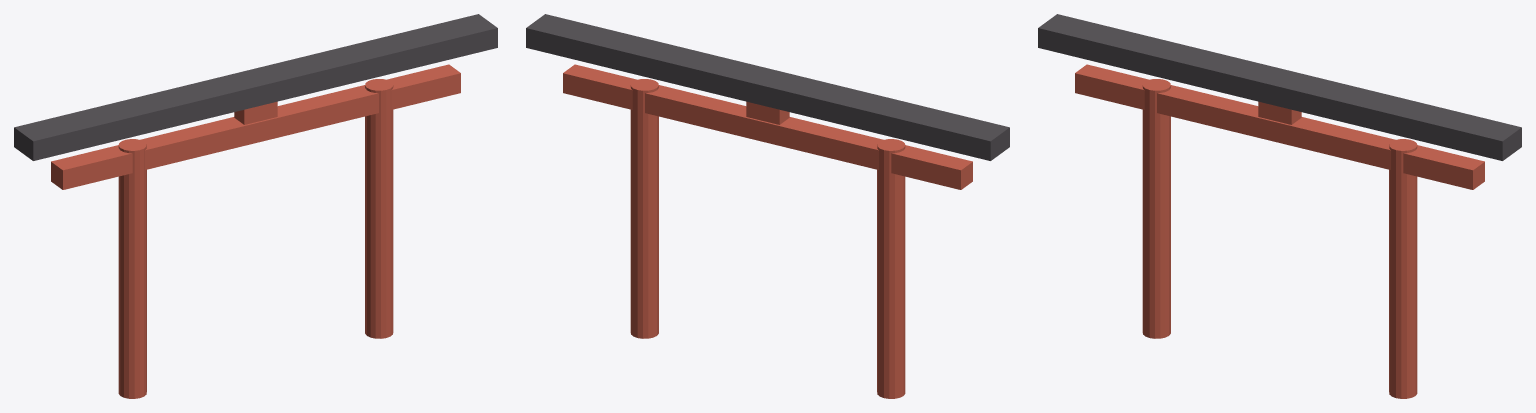
Rendered from torii.glb.
3 renders of one model, left to right at view 1: azimuth 30°, elevation 25°; view 2: azimuth 150°, elevation 25°; view 3: azimuth 330°, elevation 25°, orthographic.
Parts seen in each view (by area): view 1: Torii; view 2: Torii; view 3: Torii.
Boxes of the visible parts, bbox=[...] form: Torii: bbox=[14, 14, 497, 398]; Torii: bbox=[526, 14, 1009, 398]; Torii: bbox=[1038, 14, 1521, 398].
Size of the model in its own units: 9.8 by 5.75 by 0.7.
